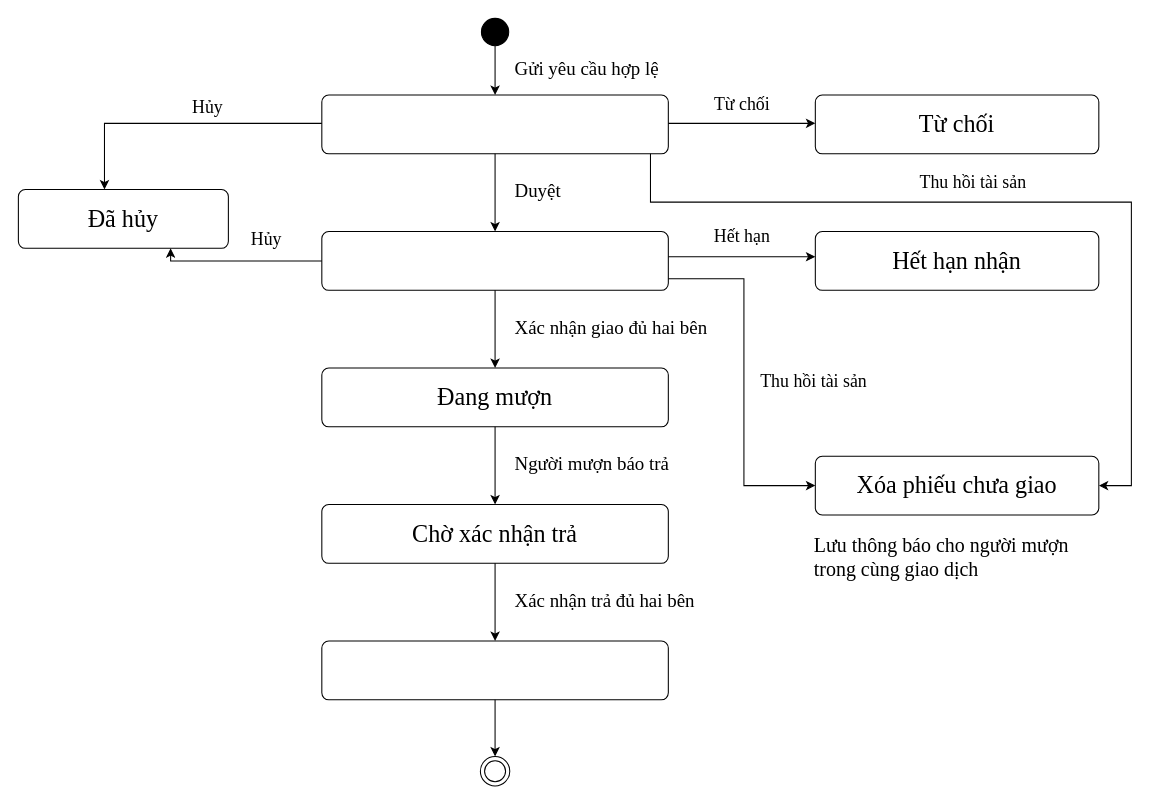
Some shapes in this 1158 by 804 pixel diagram are drawn without their labels. The centre of each missing label's shape, as x and y in pixels:
"Chờ bàn giao" belongs at (x=494, y=260).
"Chờ duyệt" belongs at (x=494, y=124).
"Đã hoàn trả" belongs at (x=494, y=670).
